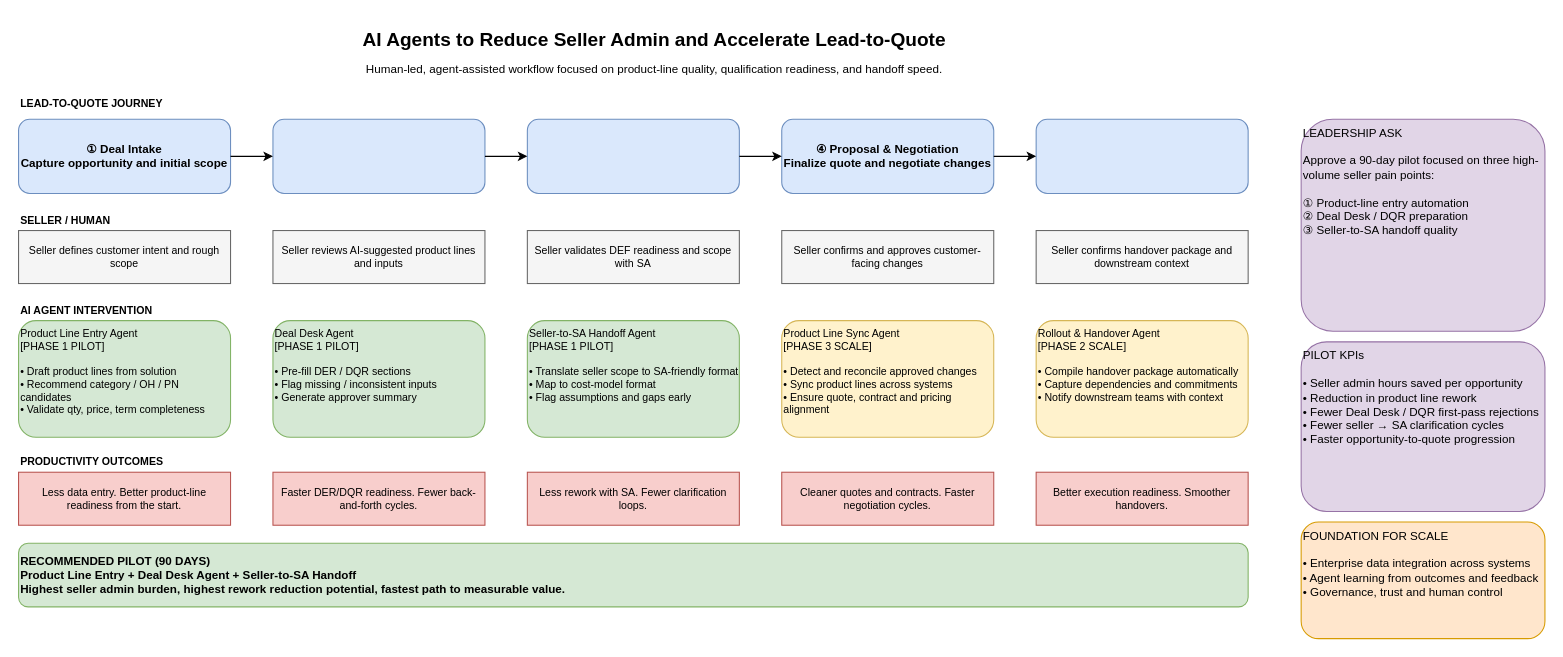
The diagram is 1563 pixels wide and 657 high, and some of its shapes have lost their labels. The centre of each missing label's shape, as x and y in pixels:
② Qualification Validate opportunity and customer needs: [378,155]
③ Solution Development Build solution and estimate with SA: [632,155]
⑤ Handover Prepare for order, execution and delivery: [1141,155]
